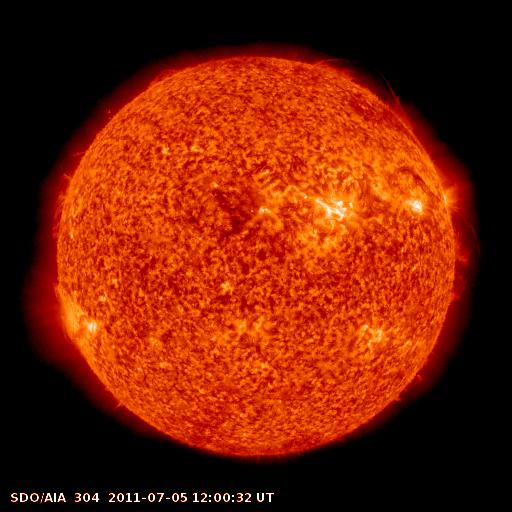prominence: (305, 51, 422, 140), (45, 165, 76, 238), (141, 59, 188, 89), (447, 244, 475, 268)
